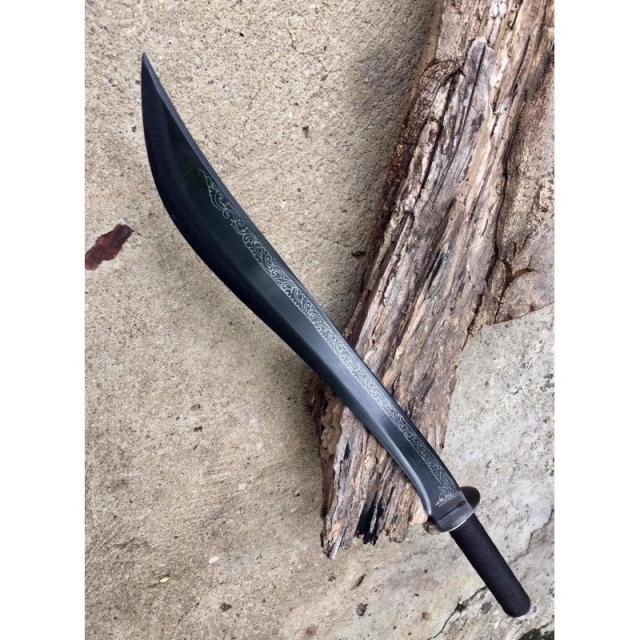long sword: (133, 42, 542, 624)
